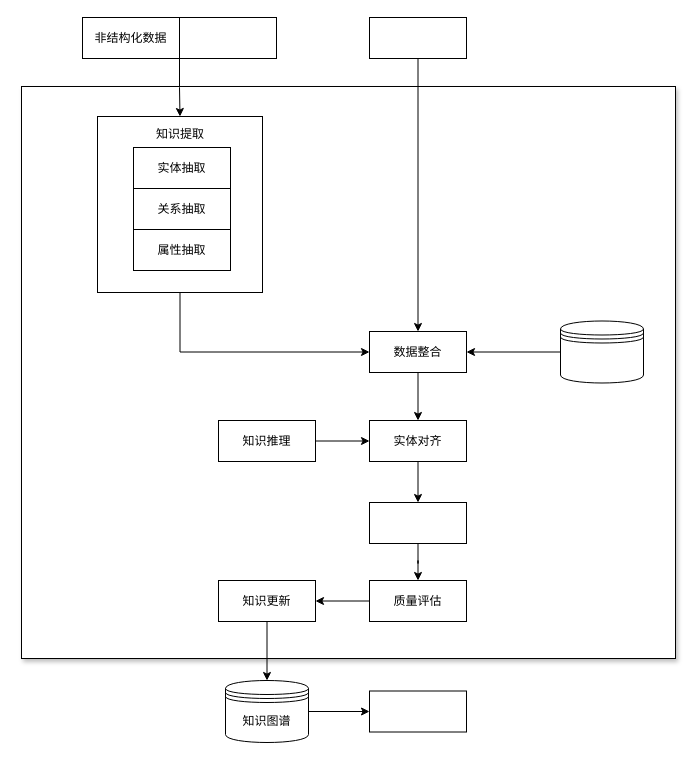
This 699x760 diagram has some shape labels left out. Here are the shapes that lost their labels. From the top down, the centre of each, then its label:
the point at 227,37: 半结构化数据
the point at 417,37: 结构化数据
the point at 602,351: 第三方数据库
the point at 417,523: 本体构建
the point at 417,711: 知识检索
